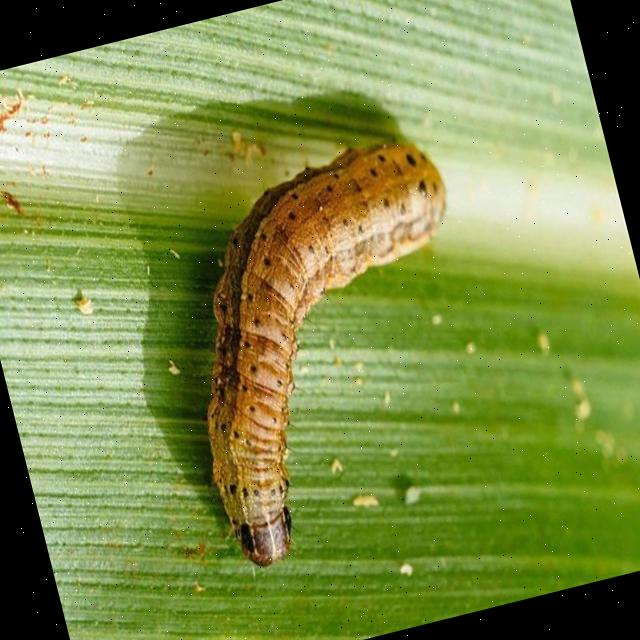worm: (141, 126, 526, 576)
